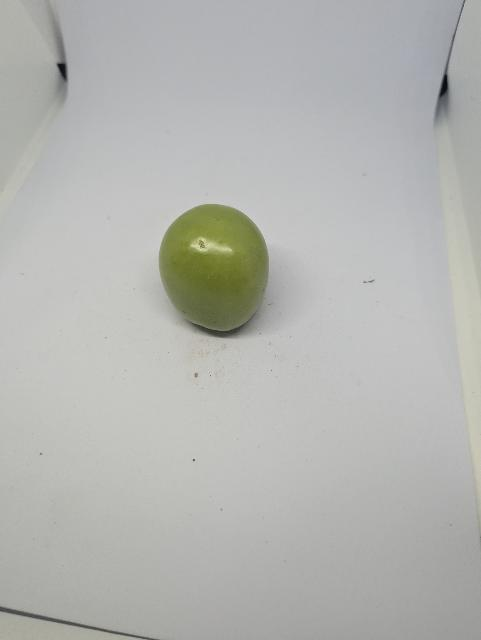green: (143, 194, 306, 358)
